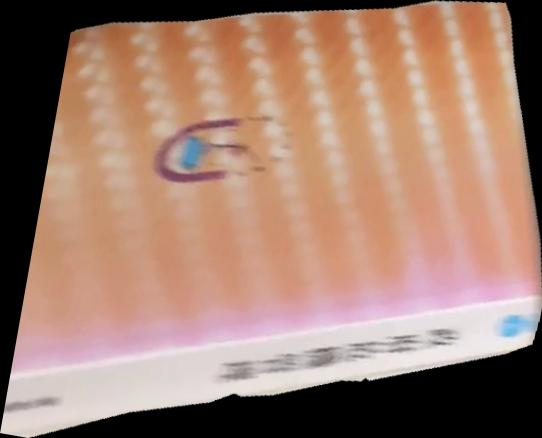flat: (1, 1, 542, 438)
